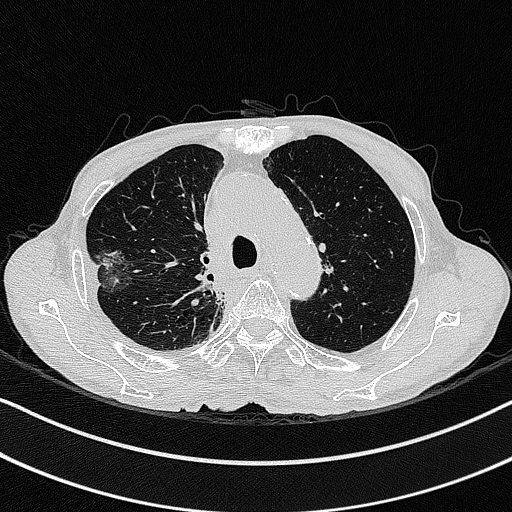nodule: (97, 252, 130, 291)
